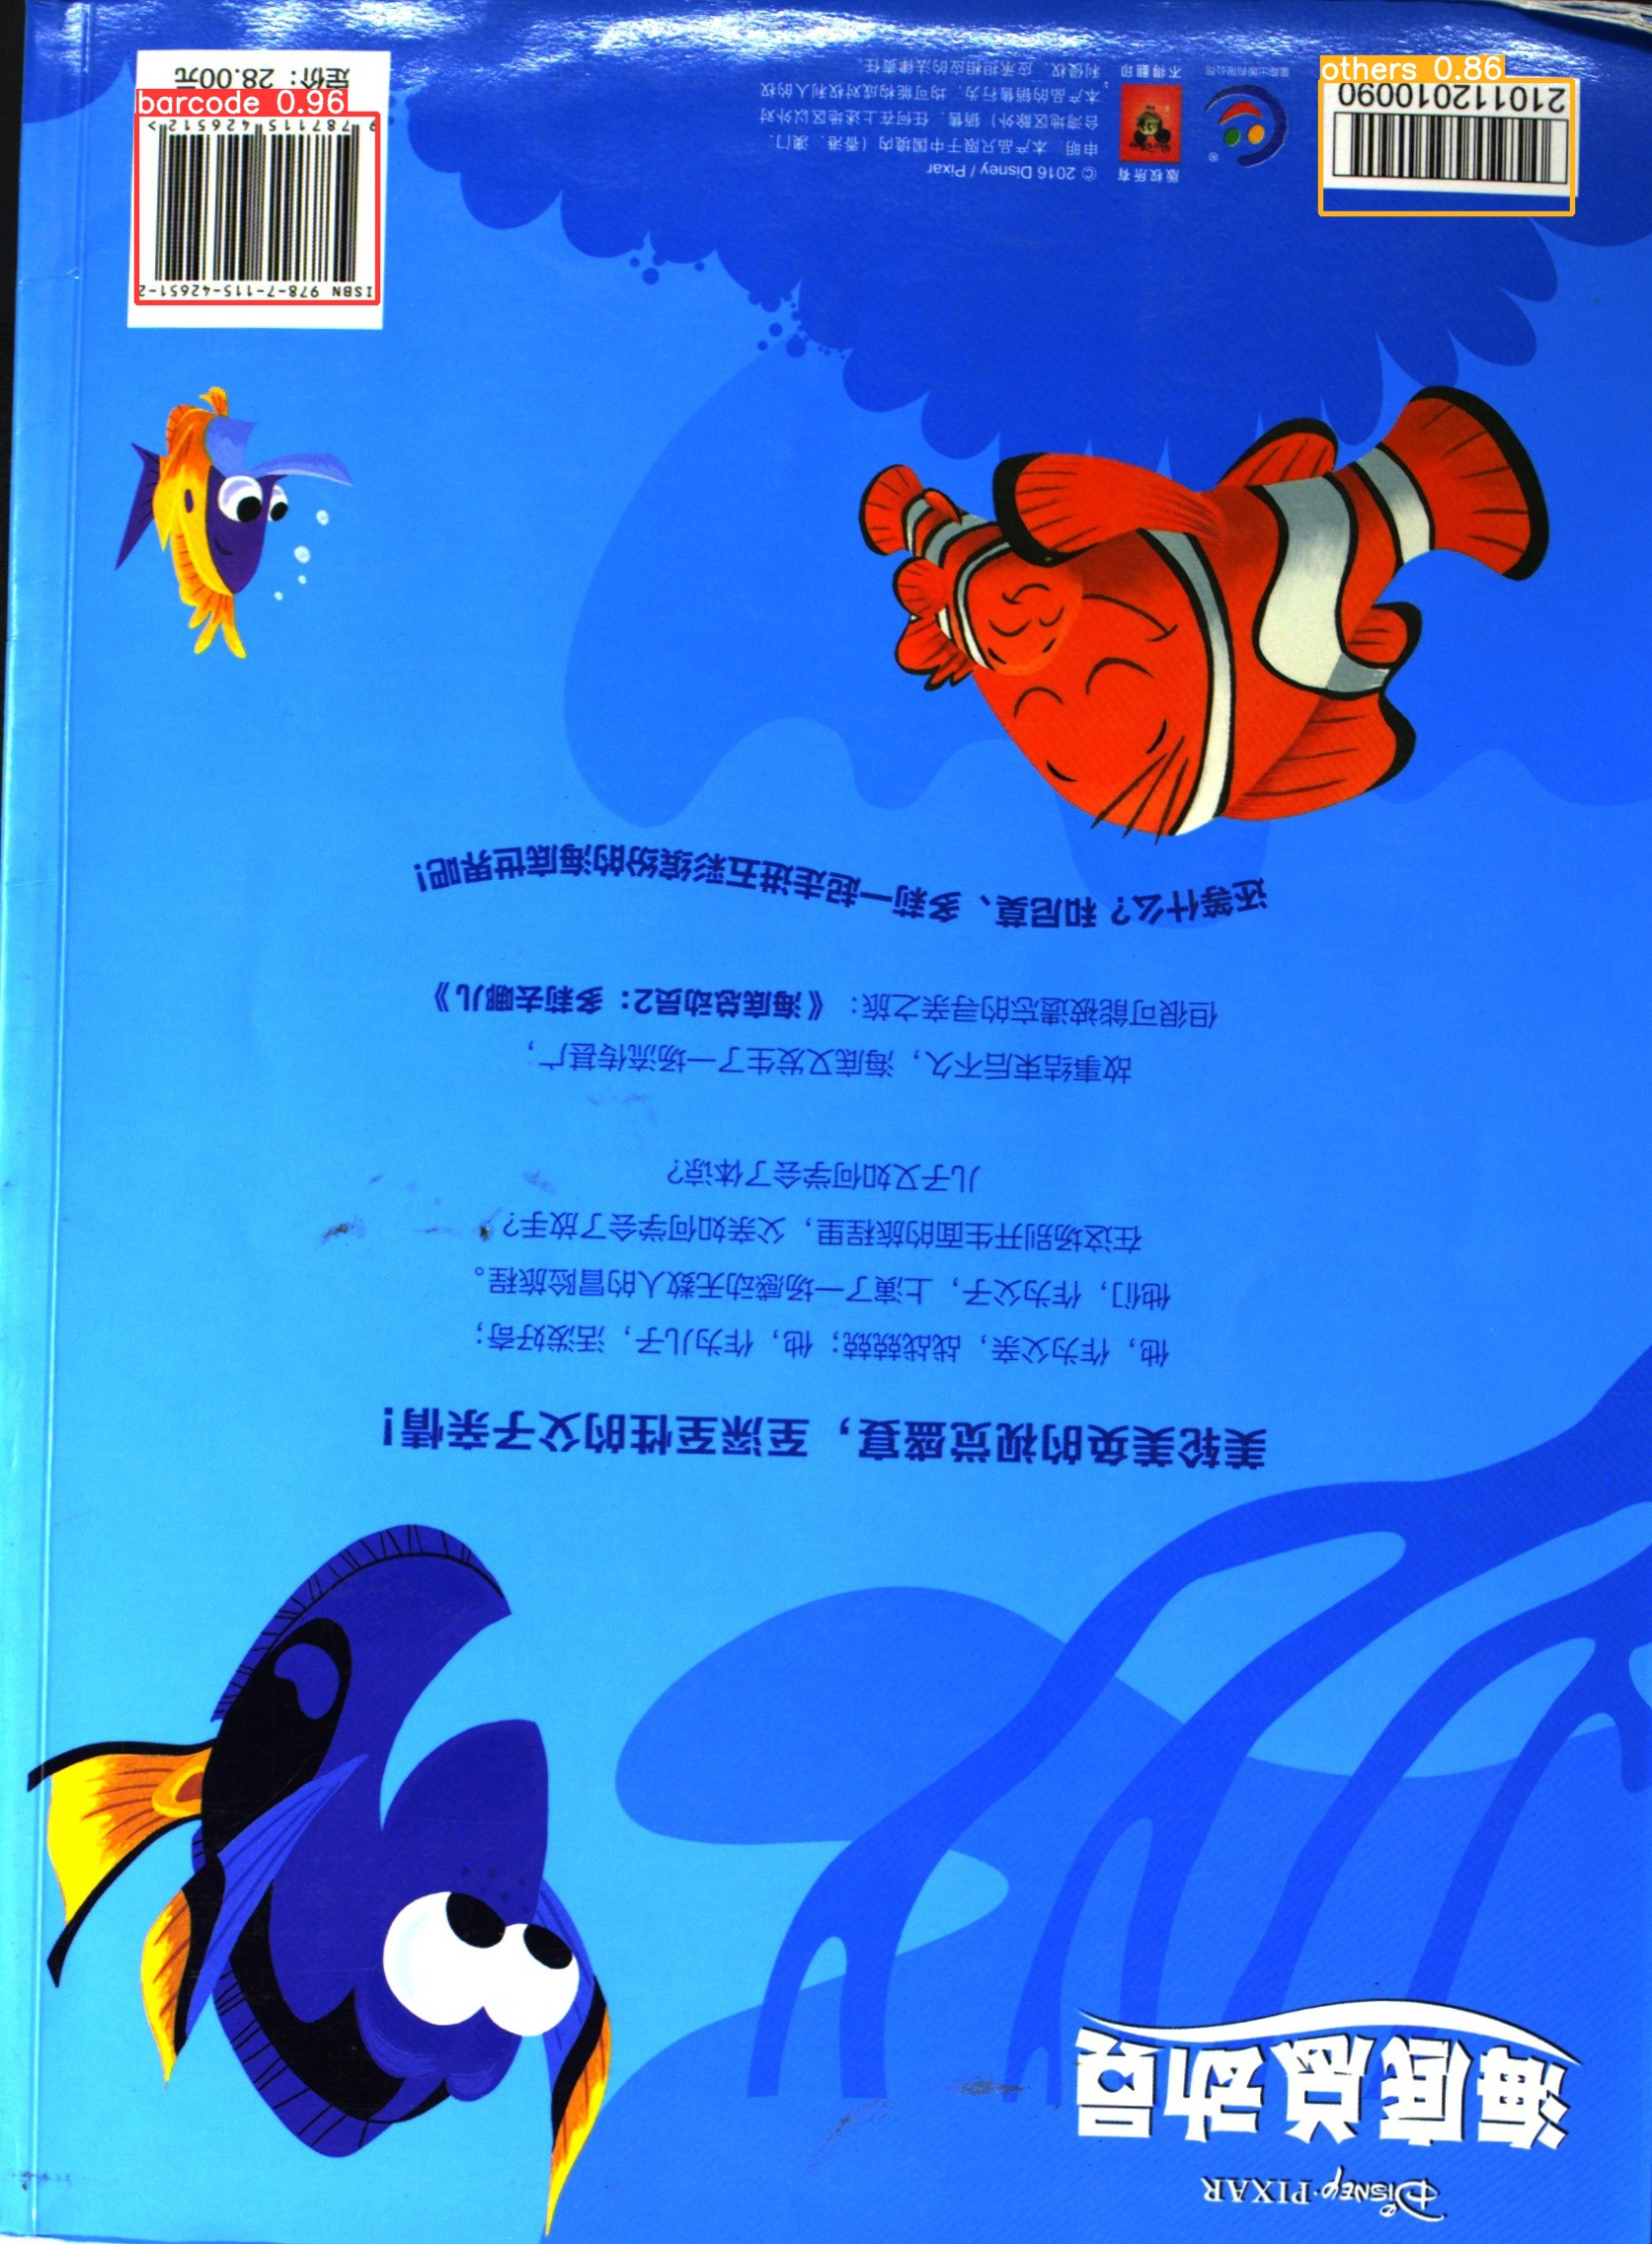barcode: (139, 49, 387, 329), (1324, 63, 1579, 206)
